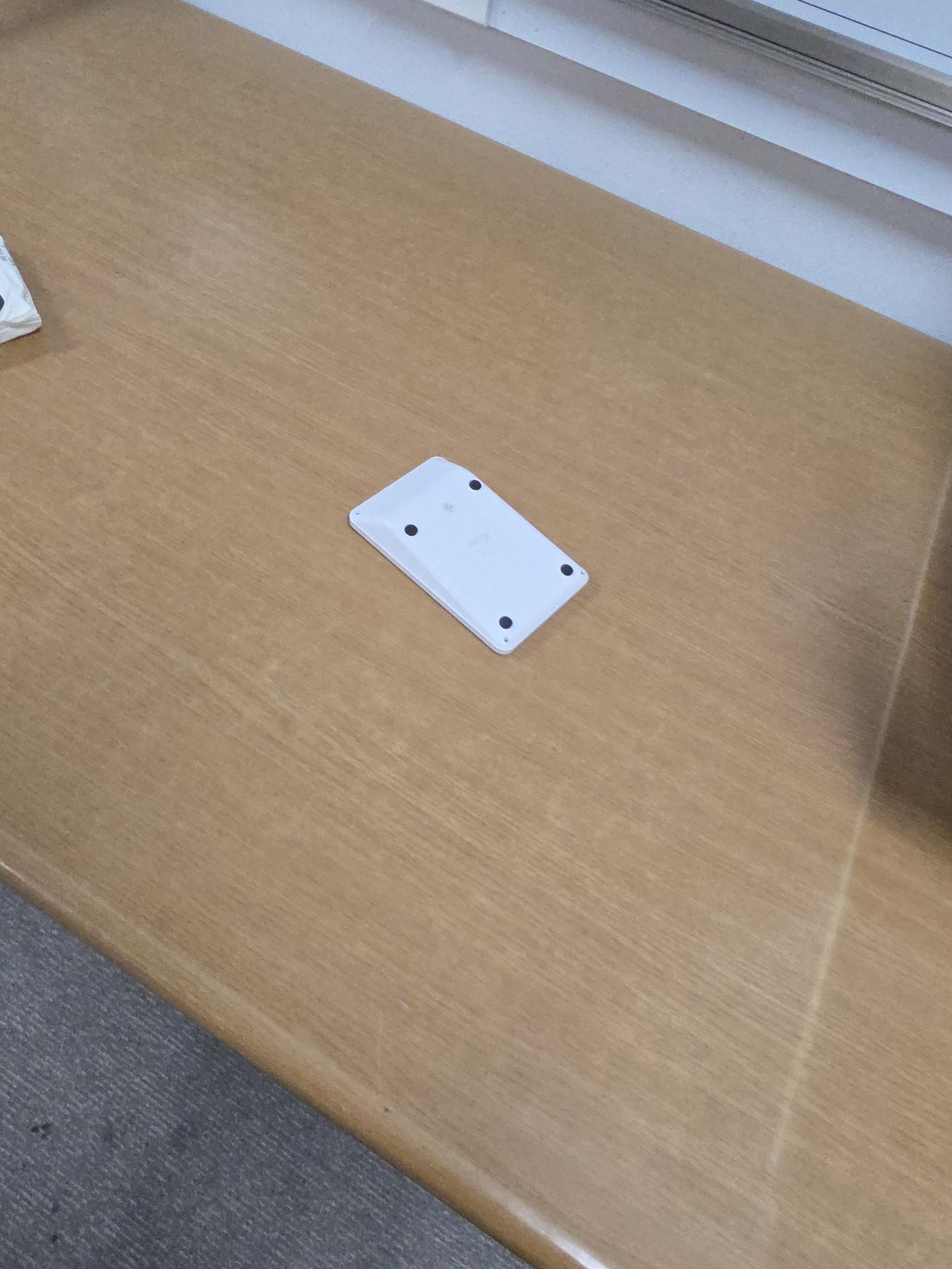calculator: (348, 455, 590, 655)
tissue: (0, 235, 42, 345)
